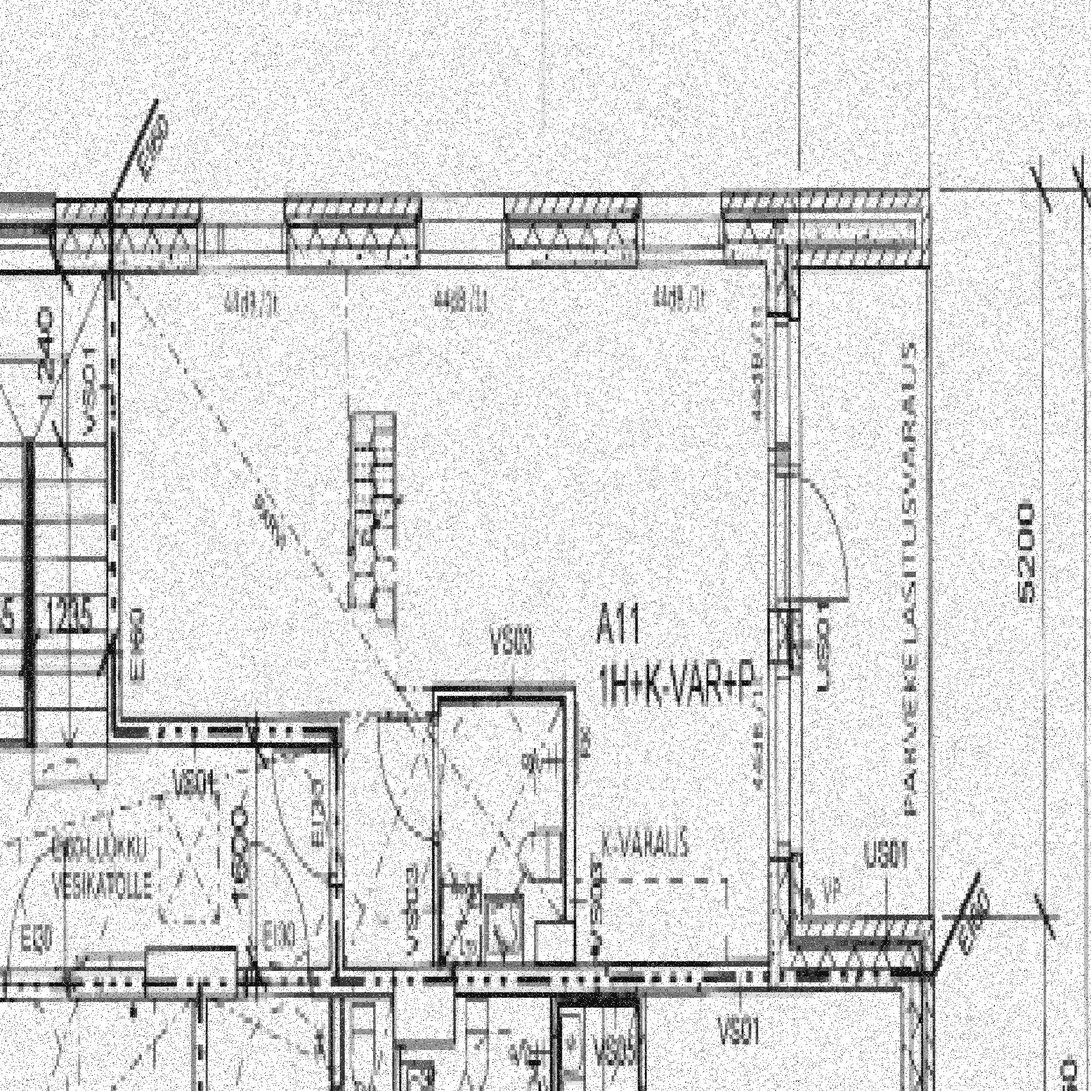wall: (109, 198, 803, 278), (768, 198, 803, 992), (330, 967, 802, 992), (803, 197, 933, 267), (803, 923, 933, 992), (108, 719, 344, 746), (109, 197, 120, 746), (330, 719, 344, 993), (535, 921, 575, 992), (566, 689, 575, 922), (434, 689, 575, 703), (434, 689, 440, 992)
